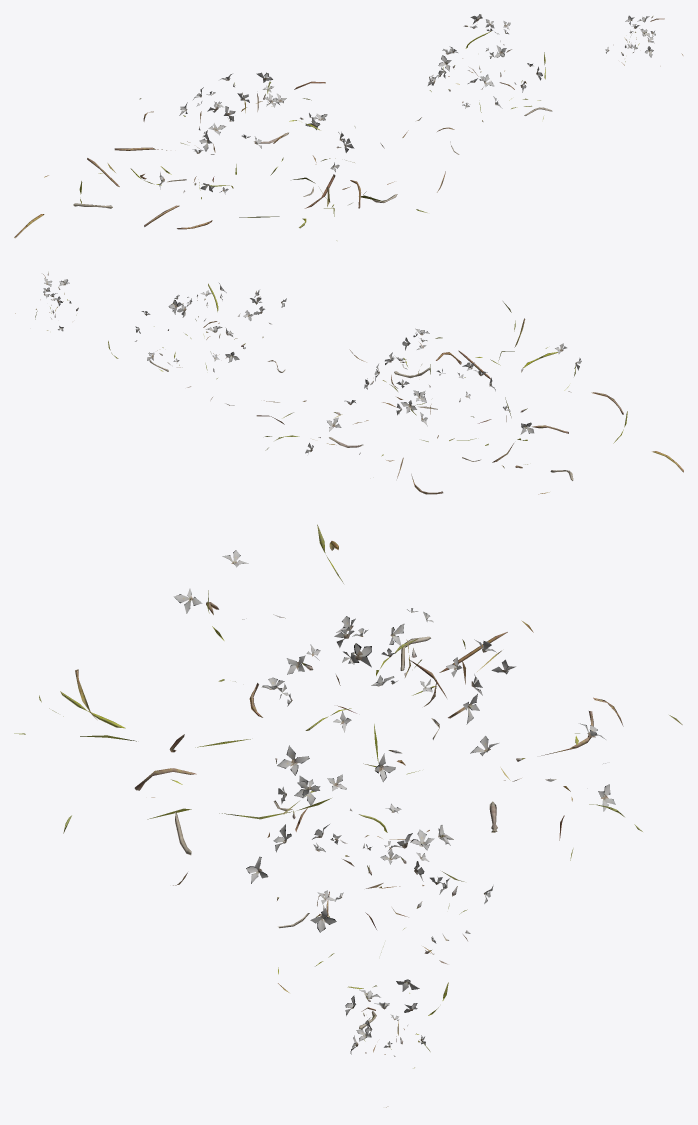
Rendered from heliophila.glb.
3 views of the same model, one above another, from view 1: azimuth 30°, elevation 25°; view 2: azimuth 150°, elevation 25°; view 3: azimuth 270°, elevation 25° (orthographic). The views are drawn at different scales.
Visible parts, largest first — view 1: flower_heliophila_large, flower_heliophila_medium, flower_heliophila_small; view 2: flower_heliophila_large, flower_heliophila_medium; view 3: flower_heliophila_large, flower_heliophila_medium.
Part boxes in pixels (x1,y1,x2,y2): flower_heliophila_large: (14, 72, 445, 240); flower_heliophila_medium: (415, 14, 552, 154); flower_heliophila_small: (605, 15, 683, 66); flower_heliophila_large: (256, 301, 683, 494); flower_heliophila_medium: (108, 283, 286, 405); flower_heliophila_large: (14, 524, 682, 917); flower_heliophila_medium: (246, 774, 493, 1029).
Size of the model in its own units: 2.7 by 0.3852 by 1.34.
Materials: 1 (1 with a texture image).
